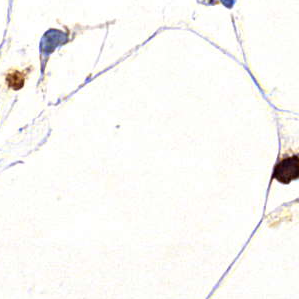Lymphocyte: (6, 69, 28, 91)
